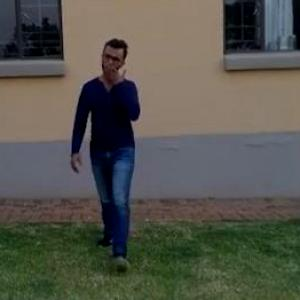follow: (84, 39, 146, 240)
